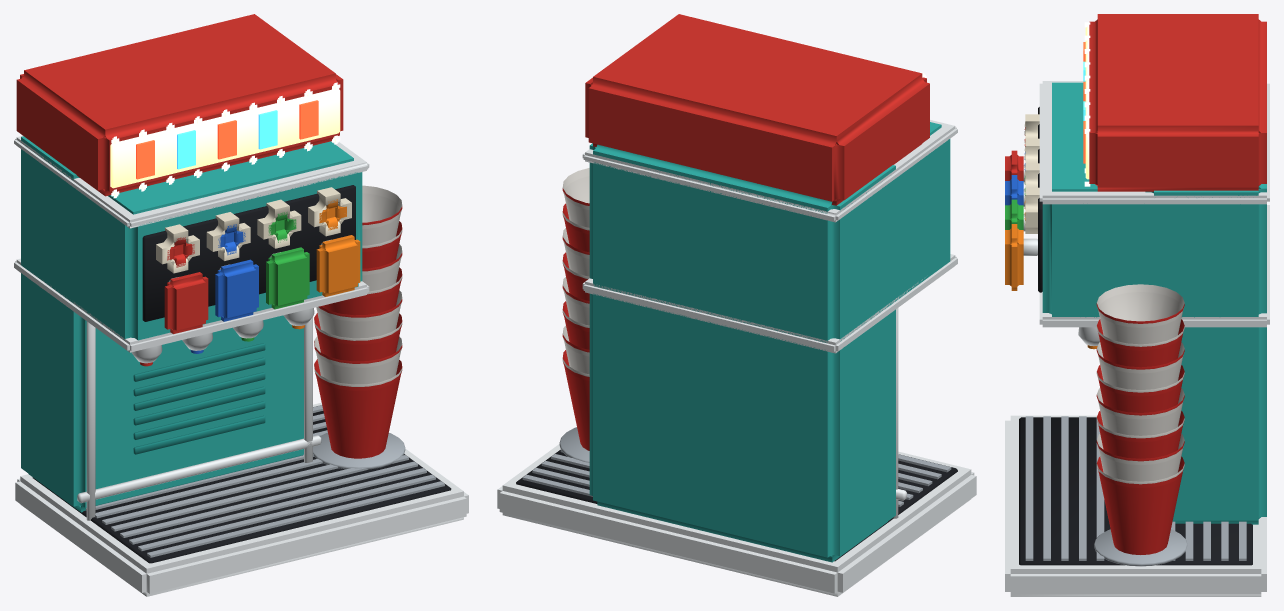
Rendered from soda_fountain.glb.
3 renders of one model, left to right at view 1: azimuth 30°, elevation 25°; view 2: azimuth 150°, elevation 25°; view 3: azimuth 270°, elevation 25°, orthographic. The views are drawn at different scales.
Visible parts, largest first — view 1: SodaFountain; view 2: SodaFountain; view 3: SodaFountain.
Boxes of the visible parts, x1=… form: SodaFountain: x1=14, y1=14, x2=468, y2=596; SodaFountain: x1=497, y1=14, x2=976, y2=596; SodaFountain: x1=1005, y1=14, x2=1269, y2=596.
Bounding box in the file's own units: 4 × 5.08 × 2.83.
